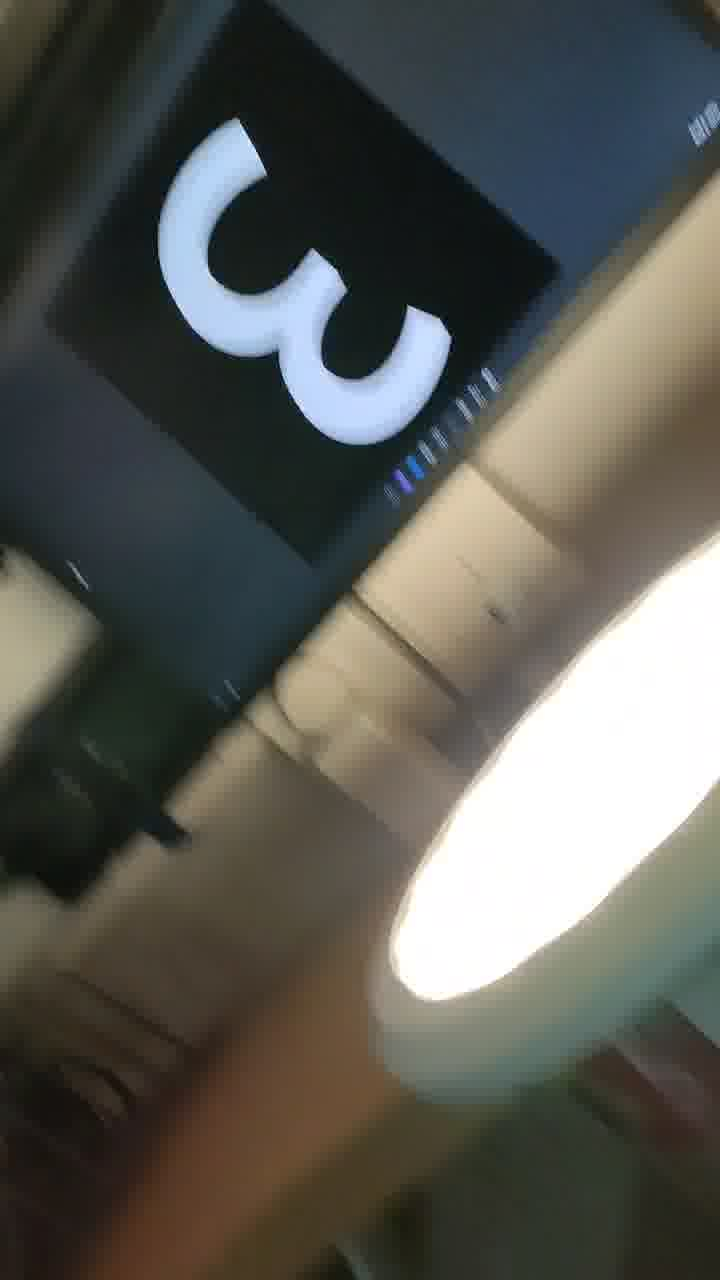three: (129, 94, 494, 502)
